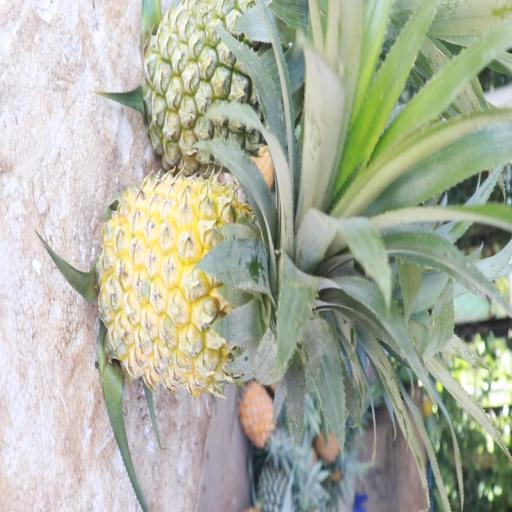------------------------------: (147, 0, 319, 166)
Pineapple - v8 v1: (100, 175, 310, 392), (234, 374, 276, 443)
